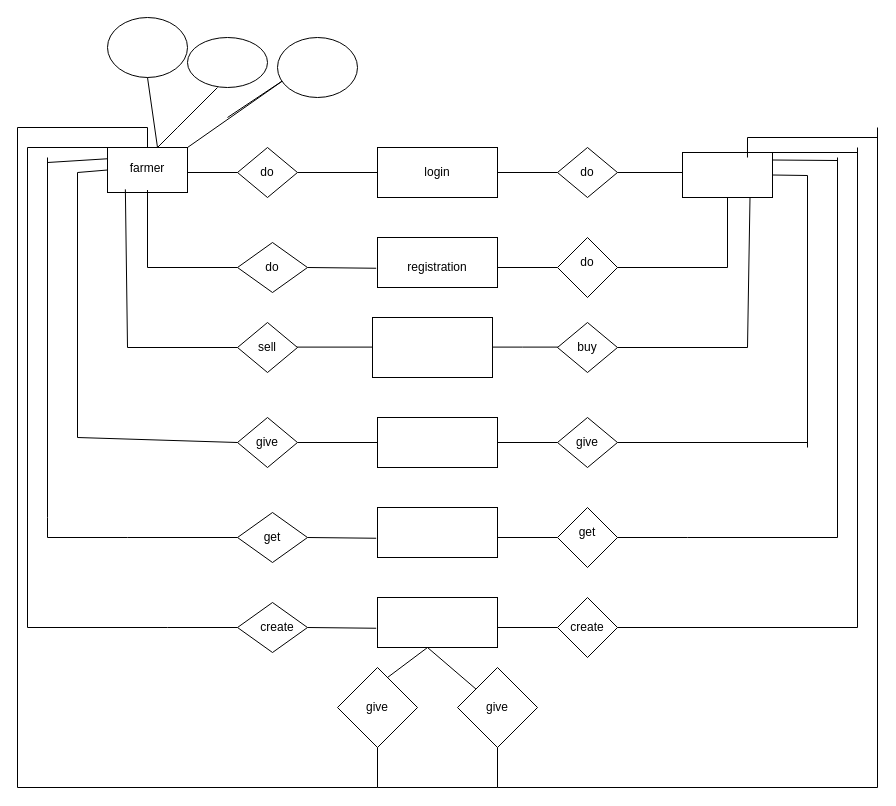
Image size: 896x806. Some labels were removed from this diagram. Here are the shapes that lost their labels. From the top down, the centre of each, then its label:
At [147,47]: "fid".
At [227,62]: "fname".
At [317,67]: "beemail".
At [727,175]: "buyer".
At [432,347]: "product".
At [437,442]: "feedback".
At [437,532]: "cart".
At [437,622]: "blog".
